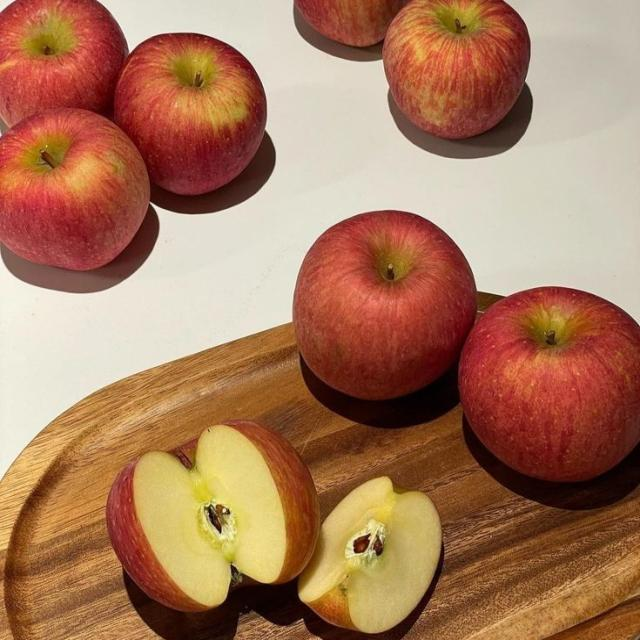apple: (107, 420, 319, 611), (459, 287, 639, 481), (293, 210, 476, 399), (115, 34, 266, 194), (0, 108, 149, 270), (298, 477, 442, 633), (384, 0, 530, 138), (0, 0, 127, 126), (295, 0, 407, 47)
